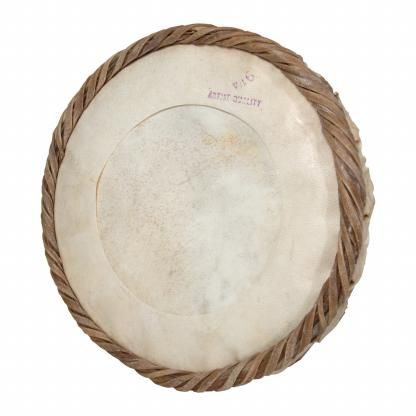Mridangam: (30, 7, 392, 413)
